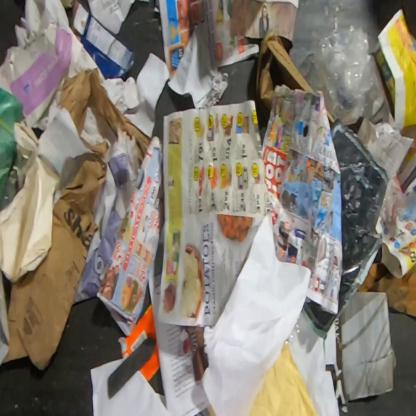cardboard: (69, 0, 135, 81), (255, 28, 315, 116), (355, 259, 415, 318)
rigid_plastic: (0, 164, 26, 213), (281, 316, 302, 350), (59, 0, 75, 8)
soft_plastic: (313, 20, 374, 127), (259, 126, 266, 148)
